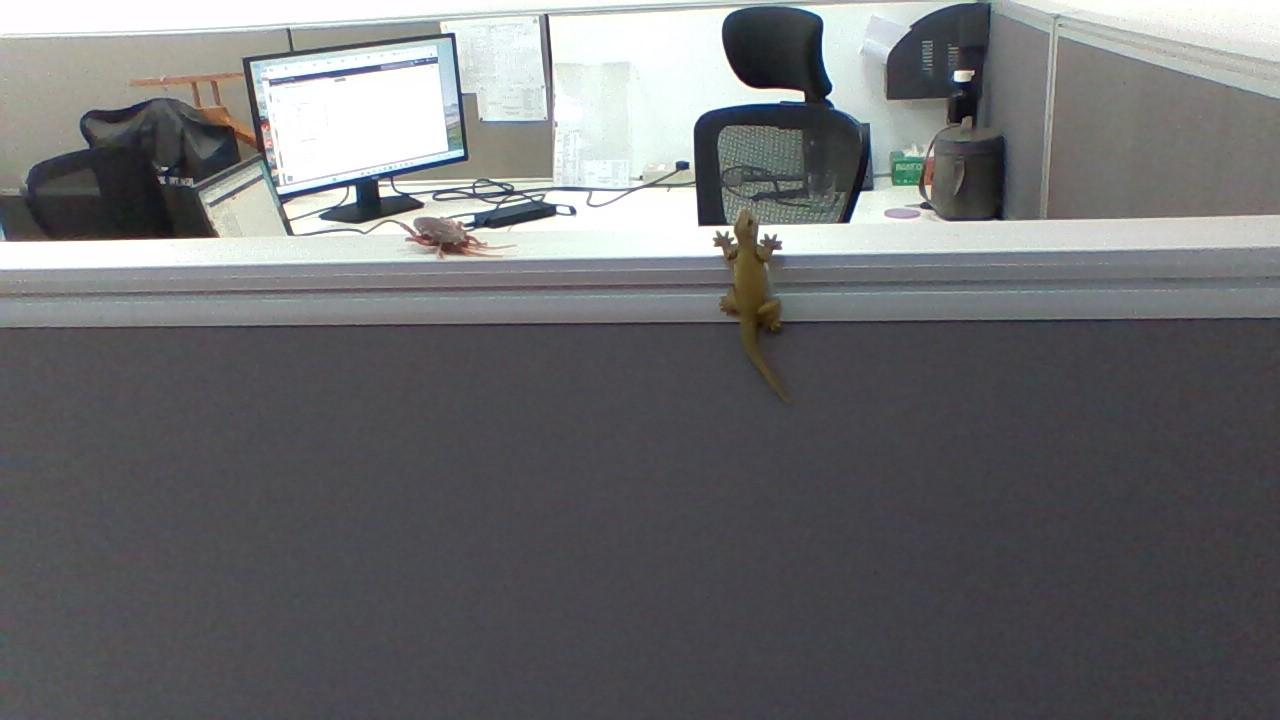cockroach: (389, 210, 525, 270)
lizard: (707, 195, 805, 421)
